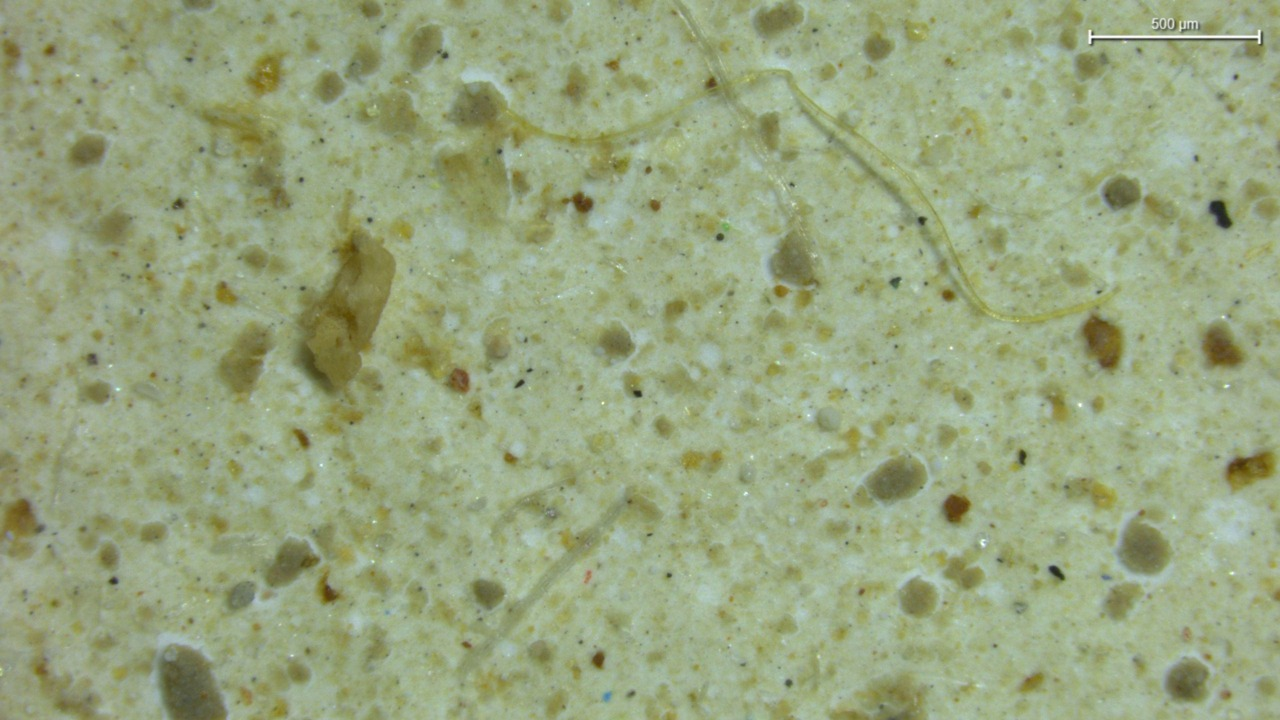microplastic_fragment: (307, 229, 395, 387)
